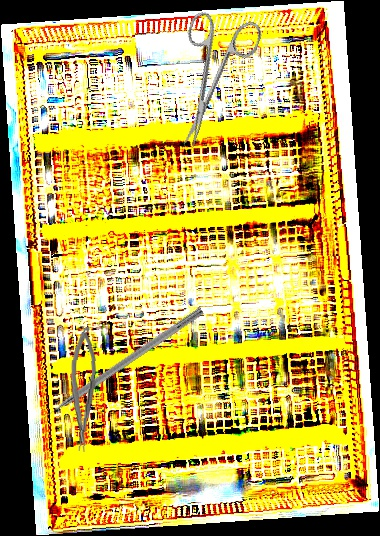Hook Surgical: (31, 305, 205, 428)
Iris Scissors: (152, 3, 265, 158)
Needle Holder: (65, 325, 100, 453)
